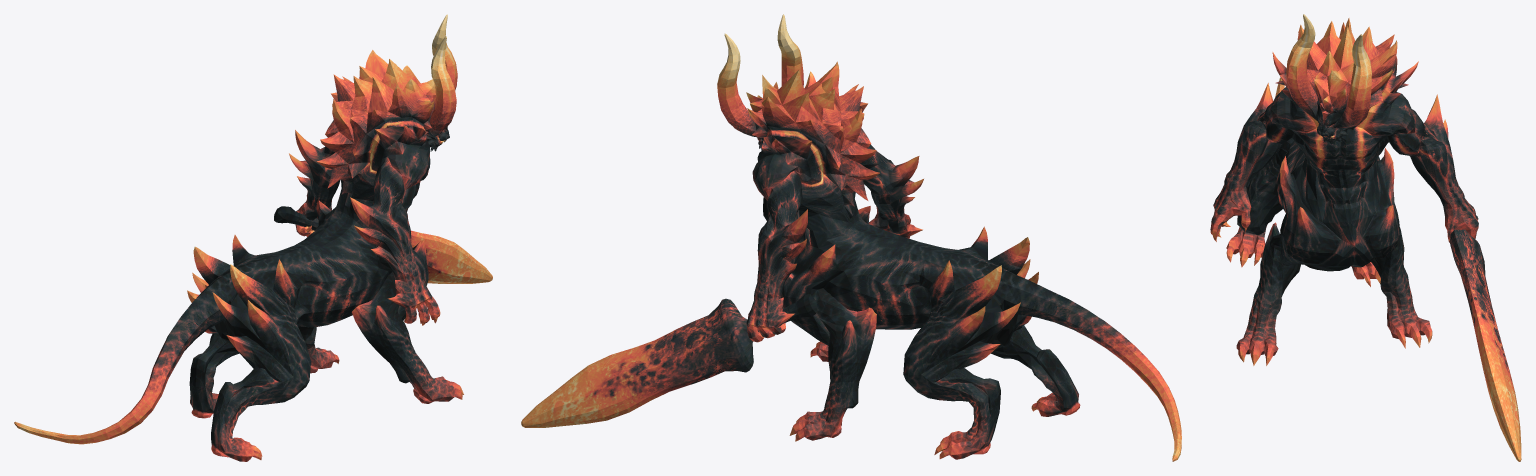
3 renders of one model, left to right at view 1: azimuth 30°, elevation 25°; view 2: azimuth 150°, elevation 25°; view 3: azimuth 270°, elevation 25°, orthographic. The views are drawn at different scales.
Visible parts, largest first — view 1: DrawCall_0020; view 2: DrawCall_0020; view 3: DrawCall_0020.
Boxes of the visible parts, <box> form: DrawCall_0020: <box>14,14,492,461</box>; DrawCall_0020: <box>521,14,1181,461</box>; DrawCall_0020: <box>1210,14,1521,461</box>.
Bounding box in the file's own units: 105 × 64.61 × 48.78.
Materials: 1 (1 with a texture image).
